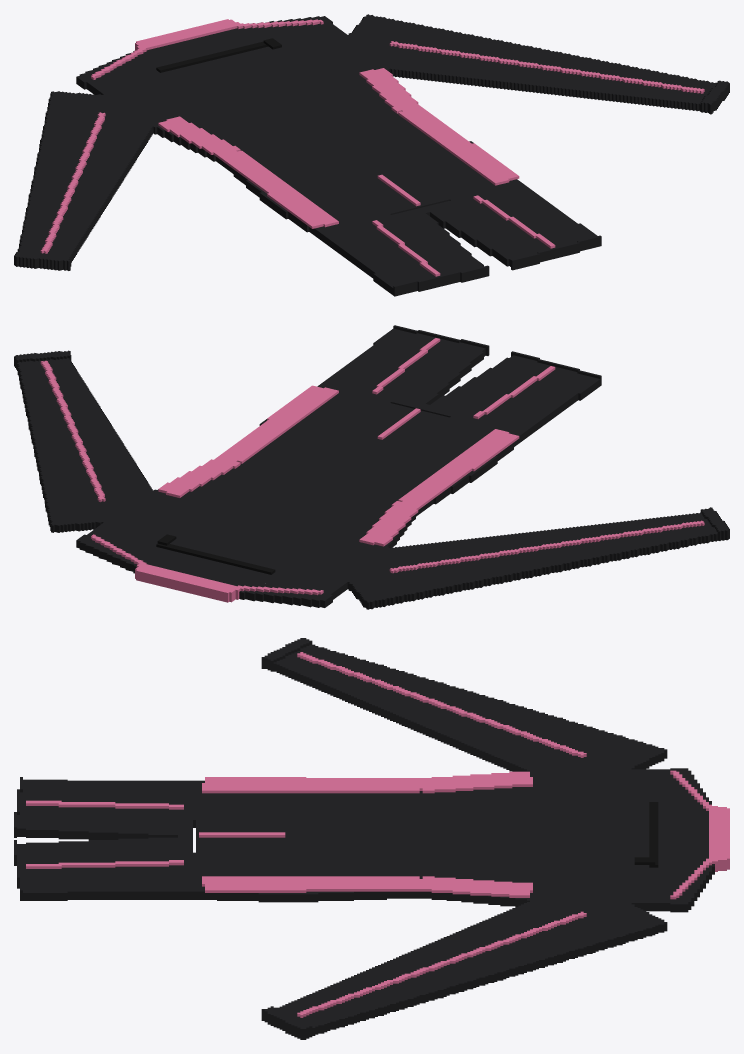
Rendered from wetsuit_spring.glb.
3 views of the same model, one above another, from view 1: azimuth 30°, elevation 25°; view 2: azimuth 150°, elevation 25°; view 3: azimuth 270°, elevation 25° (orthographic). The views are drawn at different scales.
Parts seen in each view (by area): view 1: wetsuit_spring:compound; view 2: wetsuit_spring:compound; view 3: wetsuit_spring:compound.
Part boxes in pixels (x1,y1,x2,y2): wetsuit_spring:compound: (14, 14, 729, 296); wetsuit_spring:compound: (14, 325, 729, 609); wetsuit_spring:compound: (14, 638, 729, 1039).
Size of the model in its own units: 1.24 by 0.02 by 0.96.
